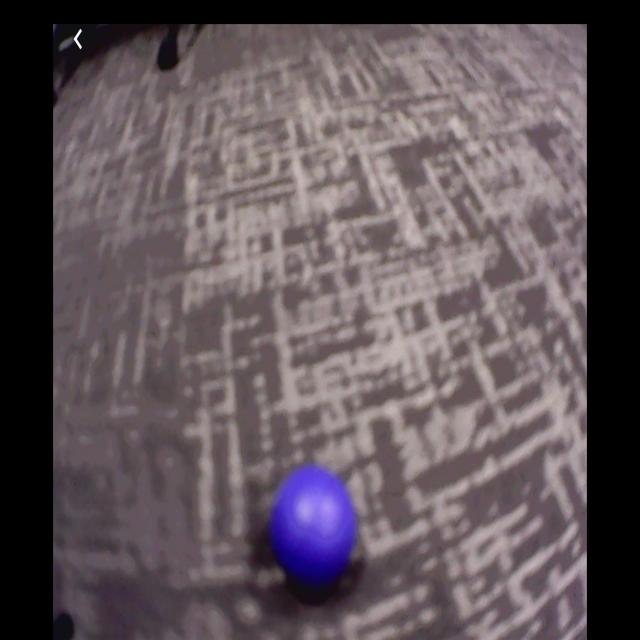ball: (272, 469, 352, 580)
